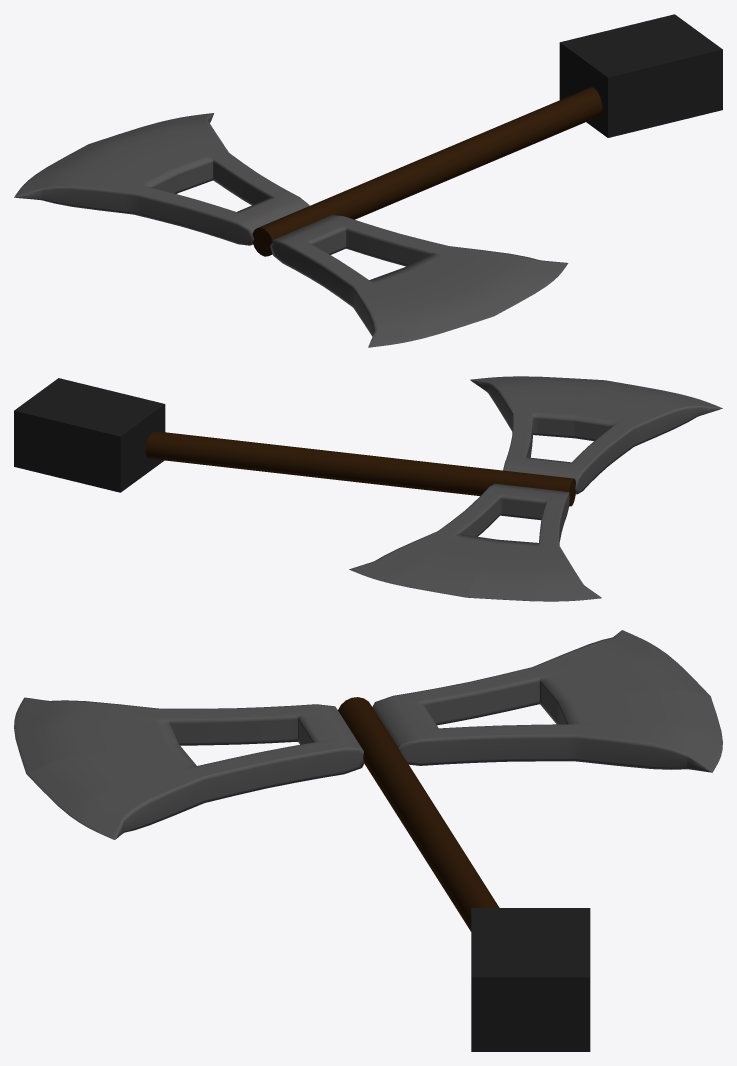
File: Axe.FBX
The picture shows the model from 3 angles, top to bottom: view 1: azimuth 30°, elevation 25°; view 2: azimuth 150°, elevation 25°; view 3: azimuth 270°, elevation 25°; orthographic projection. The views are drawn at different scales.
Visible parts, largest first — view 1: Box002, Box003, Cylinder001; view 2: Box002, Box003, Cylinder001; view 3: Box002, Box003, Cylinder001.
Boxes of the visible parts, <box> form: Box002: <box>14,113,568,347</box>; Box003: <box>559,14,722,137</box>; Cylinder001: <box>252,87,602,256</box>; Box002: <box>349,376,722,601</box>; Box003: <box>14,378,165,492</box>; Cylinder001: <box>145,431,575,506</box>; Box002: <box>14,630,722,839</box>; Box003: <box>471,908,590,1051</box>; Cylinder001: <box>338,697,499,931</box>.
Bounding box in the file's own units: 171 × 15.27 × 131.
